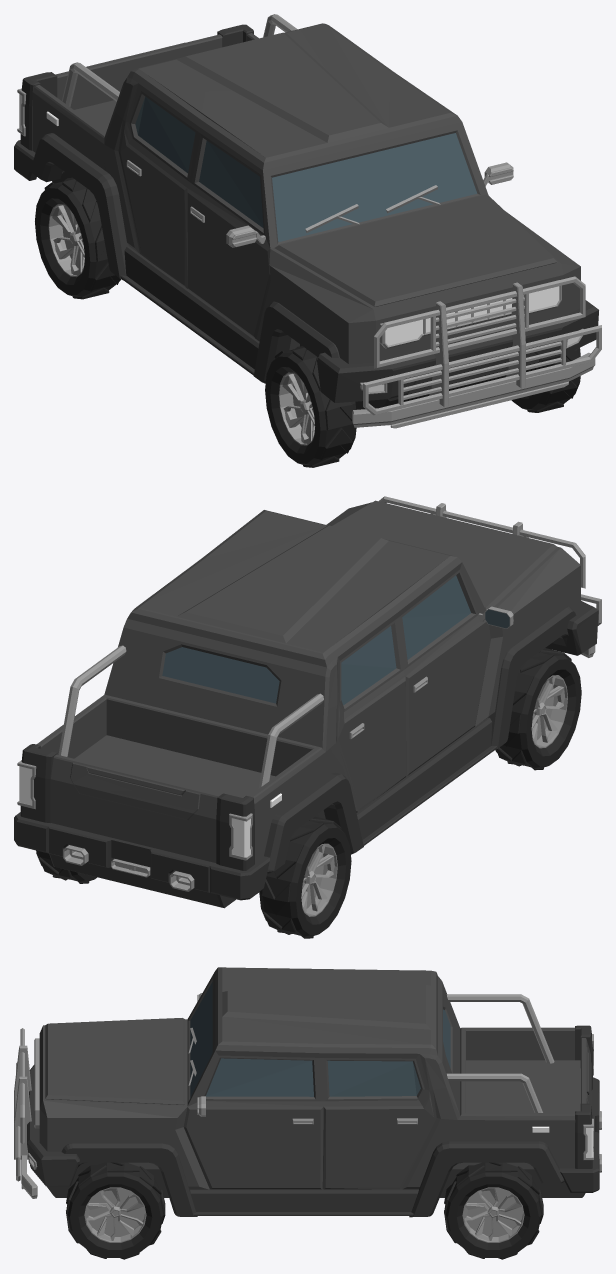
File: police.glb
3 views of the same model, one above another, from view 1: azimuth 30°, elevation 25°; view 2: azimuth 150°, elevation 25°; view 3: azimuth 270°, elevation 25° (orthographic). The views are drawn at different scales.
Parts seen in each view (by area): view 1: body, wheel_front_L, wheel_rear_L, wheel_front_R; view 2: body, wheel_rear_L, wheel_front_L, wheel_rear_R; view 3: body, wheel_rear_R, wheel_front_R.
Part boxes in pixels (left/top/right/bottom): body: left=14, top=14, right=601, bottom=428; wheel_front_L: left=265, top=346, right=356, bottom=467; wheel_rear_L: left=35, top=177, right=120, bottom=299; wheel_front_R: left=511, top=348, right=580, bottom=412; body: left=14, top=496, right=601, bottom=908; wheel_rear_L: left=259, top=816, right=351, bottom=938; wheel_front_L: left=495, top=648, right=581, bottom=770; wheel_rear_R: left=36, top=850, right=96, bottom=883; body: left=14, top=967, right=601, bottom=1217; wheel_rear_R: left=444, top=1162, right=543, bottom=1259; wheel_front_R: left=66, top=1162, right=165, bottom=1259.
Size of the model in its own units: 2.38 by 2.03 by 5.21.
1 material, 1 textured.
